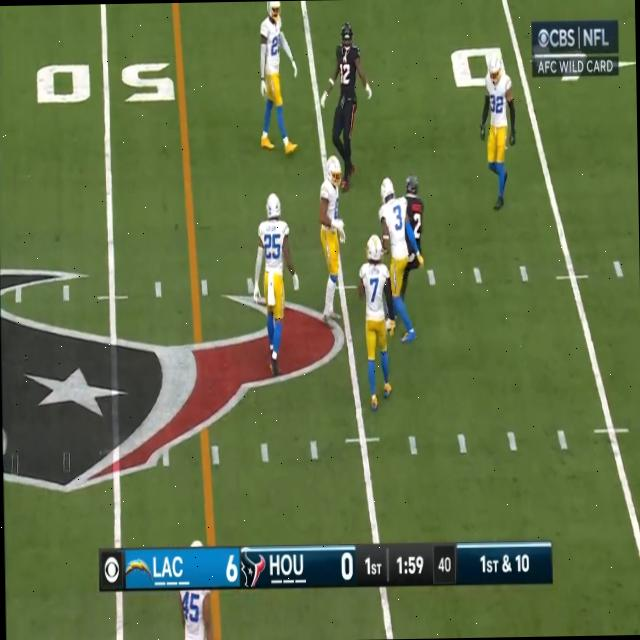Player: (358, 239, 394, 423), (374, 176, 414, 340), (254, 188, 289, 372), (478, 58, 518, 217), (258, 0, 296, 154), (316, 148, 347, 326), (330, 19, 364, 160), (178, 586, 212, 640), (406, 173, 424, 250)
